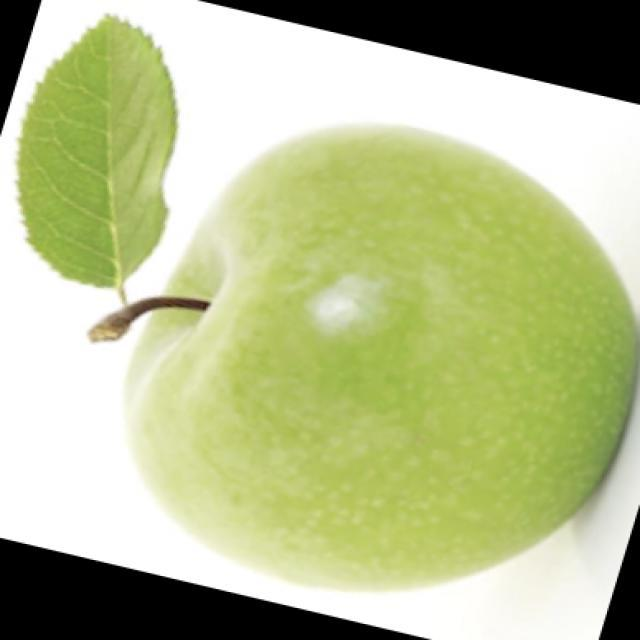Fresh Apple: (126, 130, 626, 578)
